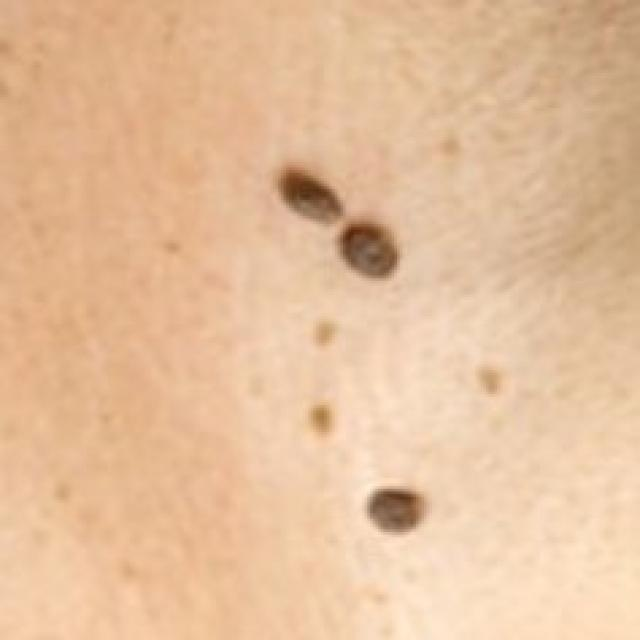wart: (275, 160, 343, 230), (338, 216, 398, 278), (359, 480, 427, 532)
